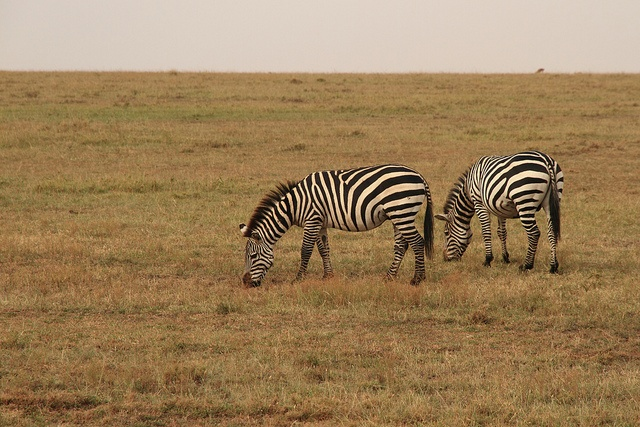zebra: (240, 162, 436, 286), (433, 148, 567, 274)
